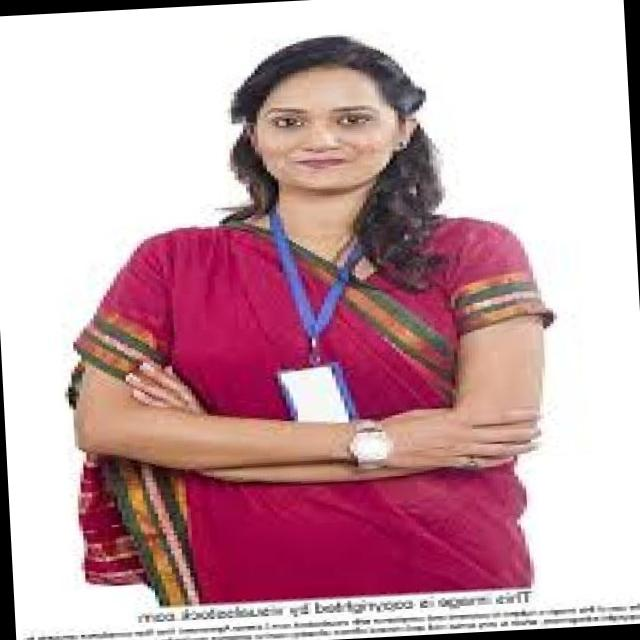id_card: (264, 203, 384, 422)
